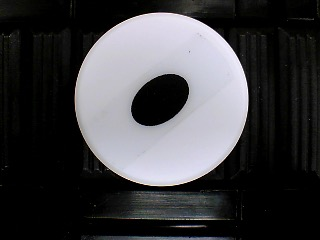BOHOEL: (73, 11, 249, 187)
